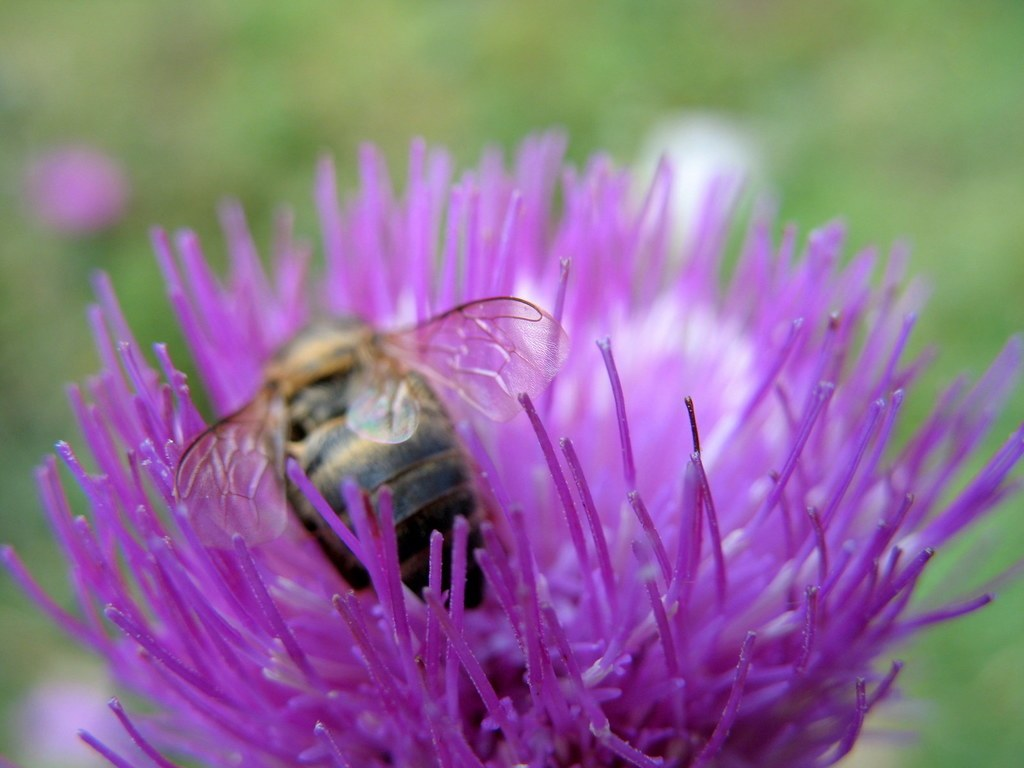bee: (165, 289, 571, 639)
insect: (54, 137, 1024, 768)
